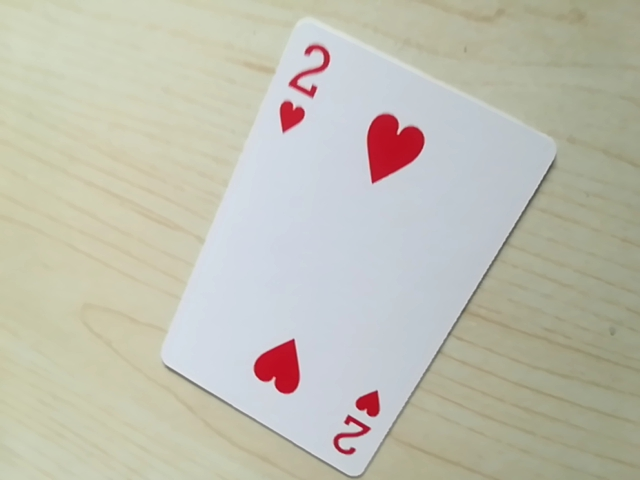hx 2: (271, 27, 336, 130), (325, 390, 384, 464)
